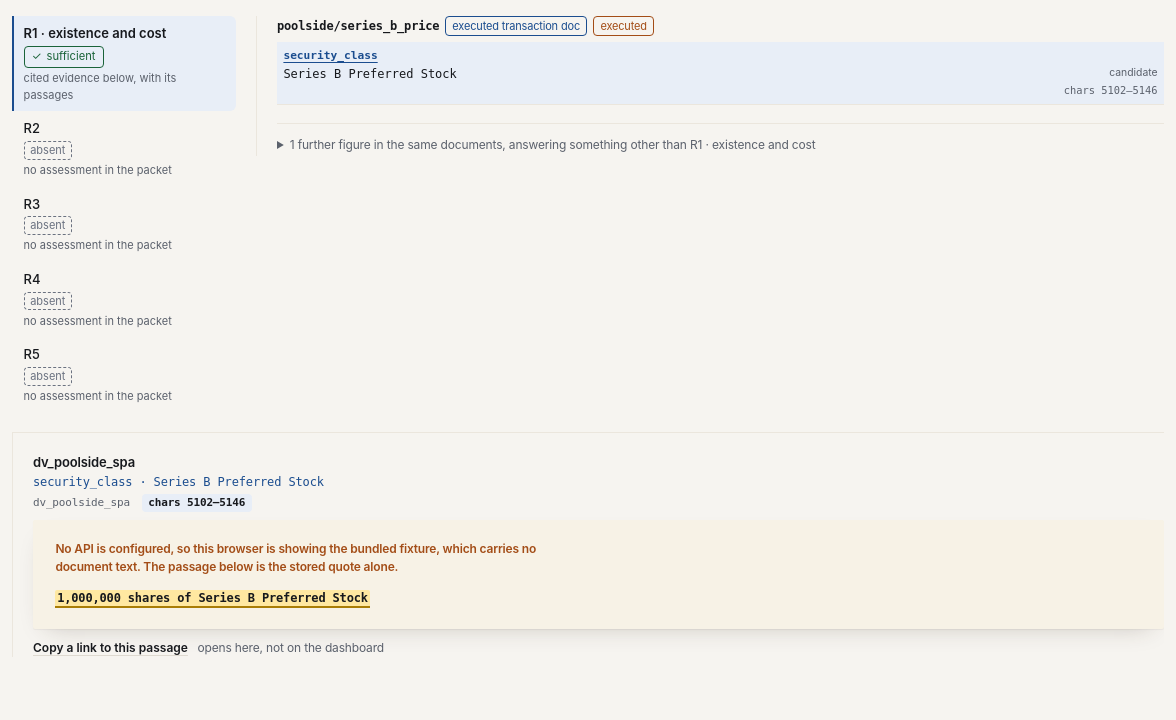
Scenario: the evidence trail › offers the link to copy, and shows it when the clipboard refuses
This screenshot has width=1176, height=720.
Expected: the element with class "trail__share" is shown, [33,639,384,657]
Click the button "Copy a link to this passage".
click(110, 648)  # box [33,639,188,657]
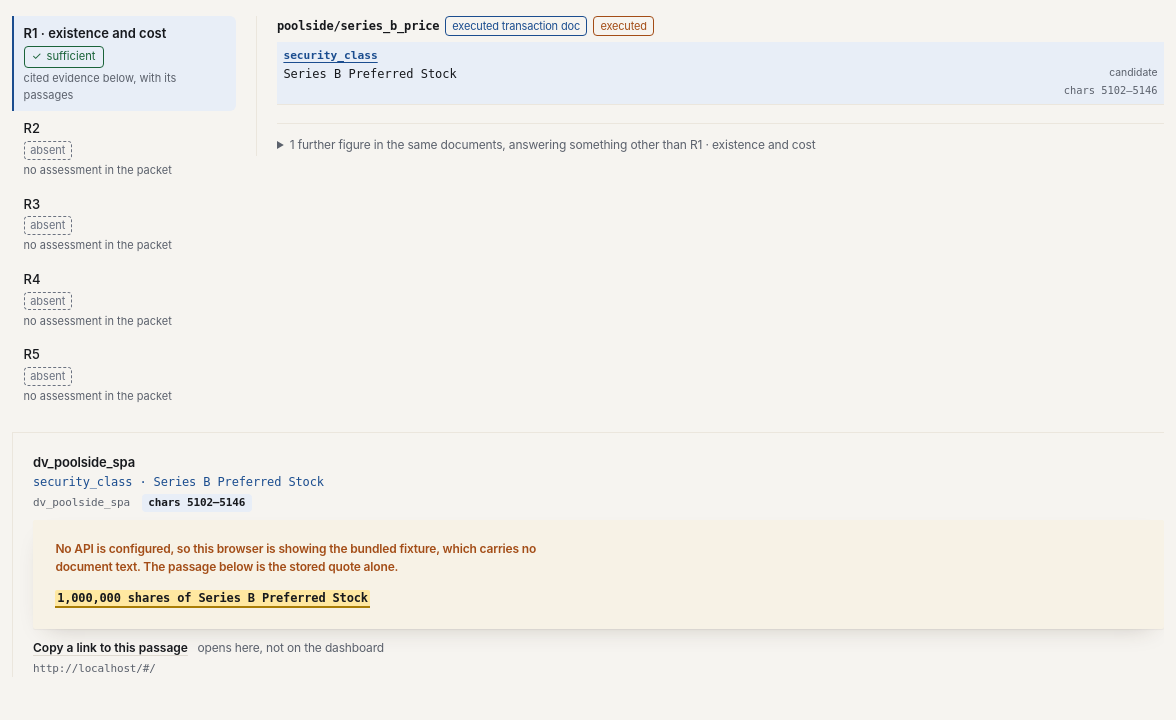
Result: the text "http://localhost/#/" is shown at [33,662,156,675]
